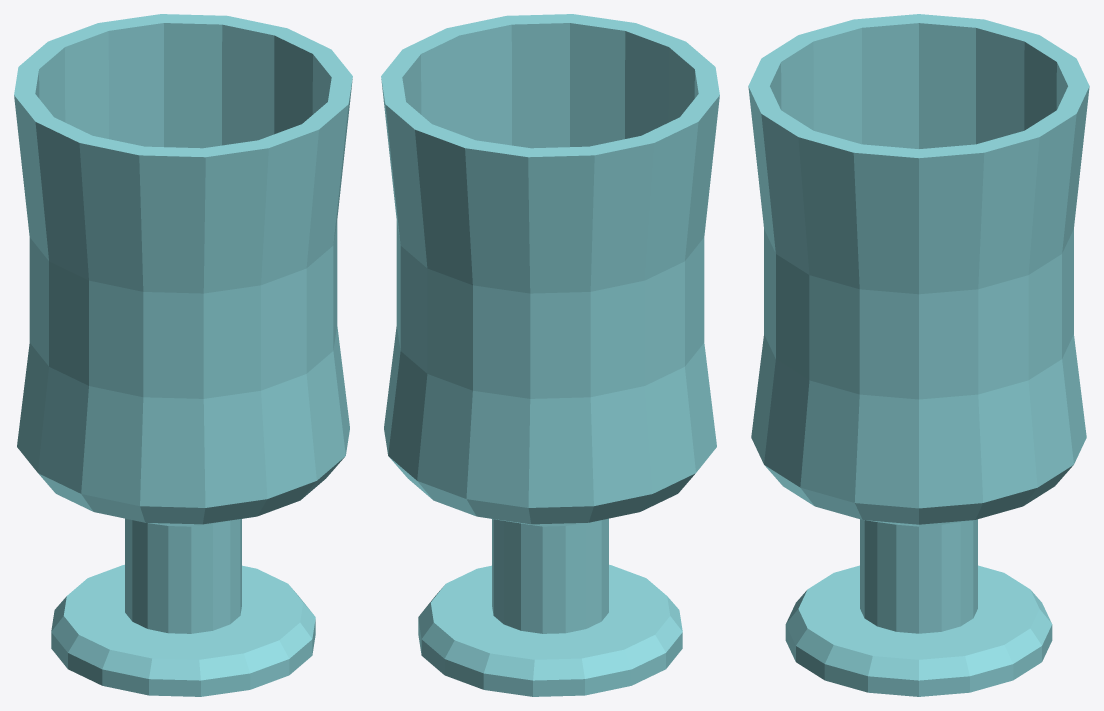
File: bier glas 1.fbx
The picture shows the model from 3 angles, left to right: view 1: azimuth 30°, elevation 25°; view 2: azimuth 150°, elevation 25°; view 3: azimuth 270°, elevation 25°; orthographic projection.
Parts seen in each view (by area): view 1: bier glas; view 2: bier glas; view 3: bier glas.
Part boxes in pixels (x1,y1,x2,y2): bier glas: (14, 14, 352, 696); bier glas: (381, 14, 719, 696); bier glas: (748, 14, 1089, 696).
Size of the model in its own units: 149 by 267 by 149.
